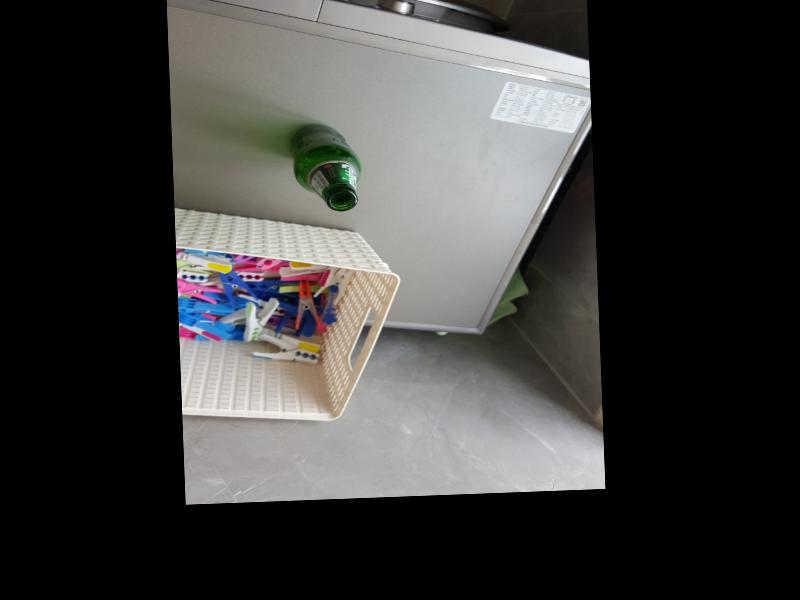Beer: (290, 121, 358, 212)
